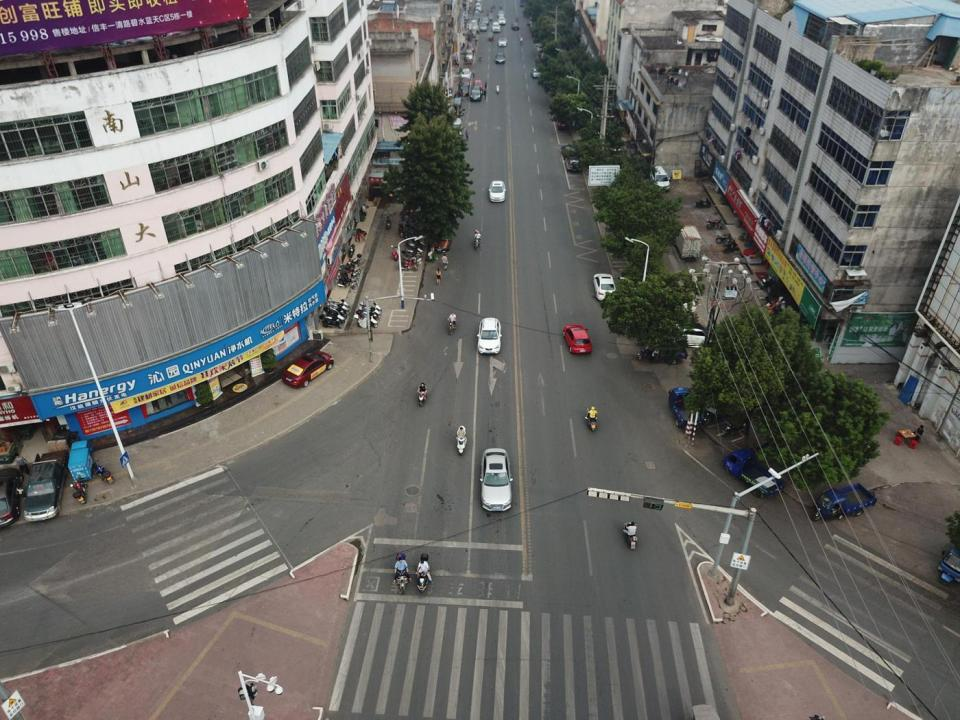car: (480, 449, 512, 513), (282, 351, 334, 388), (670, 322, 722, 348), (0, 468, 20, 527), (643, 295, 696, 313), (478, 316, 501, 354), (562, 323, 591, 353), (594, 272, 618, 302), (487, 180, 505, 204), (565, 154, 581, 172), (556, 111, 568, 130), (561, 145, 577, 159), (470, 86, 482, 102), (494, 52, 505, 64), (458, 84, 469, 96), (461, 68, 472, 79), (472, 79, 483, 90), (532, 68, 543, 78), (460, 77, 471, 86), (498, 38, 508, 47), (492, 21, 500, 32), (498, 16, 506, 24), (481, 16, 489, 24), (480, 22, 488, 30), (511, 23, 520, 30), (498, 10, 505, 16)
truck: (24, 450, 68, 522), (671, 223, 702, 260)
van: (651, 167, 669, 193), (452, 118, 463, 138), (466, 49, 472, 60)
